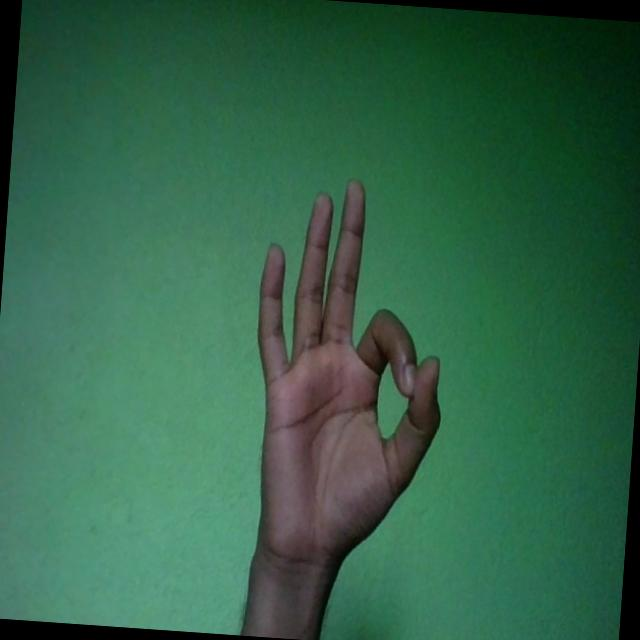Rock On: (240, 172, 454, 582)
